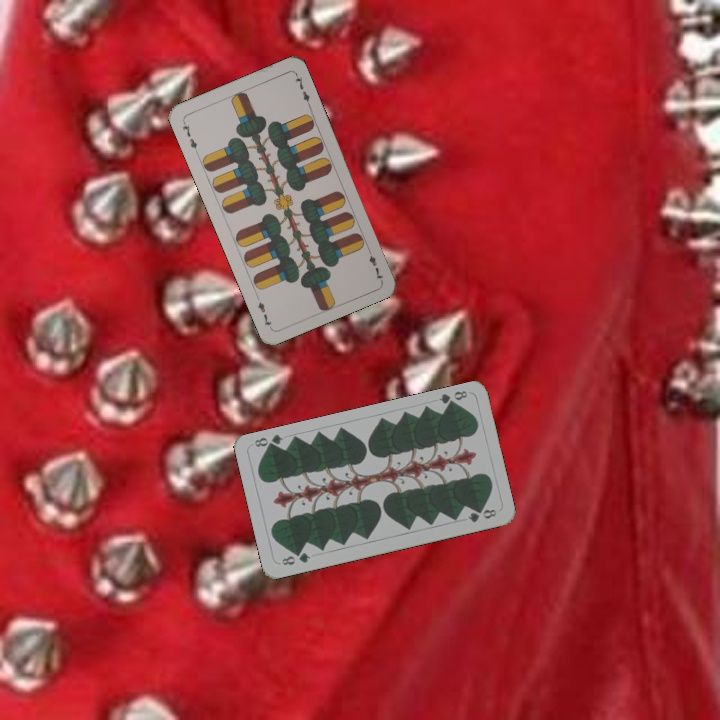E7: (363, 244, 386, 283), (179, 117, 200, 156)
G8: (435, 386, 470, 410), (278, 548, 313, 568)
